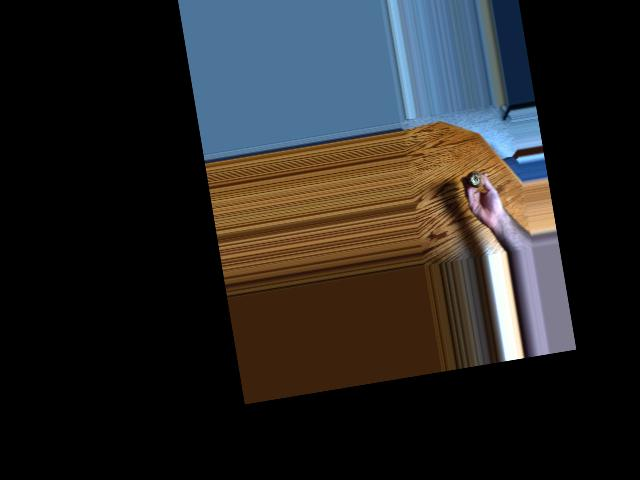sweet_potato: (467, 165, 487, 189)
